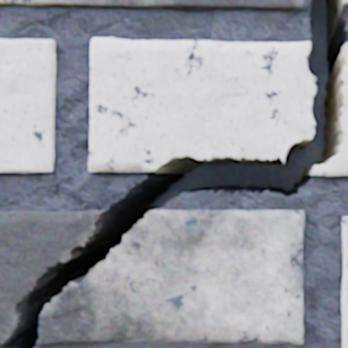brick: (0, 39, 57, 173), (0, 0, 305, 11), (341, 217, 347, 347), (343, 0, 347, 5)
broken_brick: (38, 210, 304, 344), (89, 38, 315, 172), (0, 209, 105, 344), (310, 44, 347, 176)
crack: (1, 0, 347, 347)
